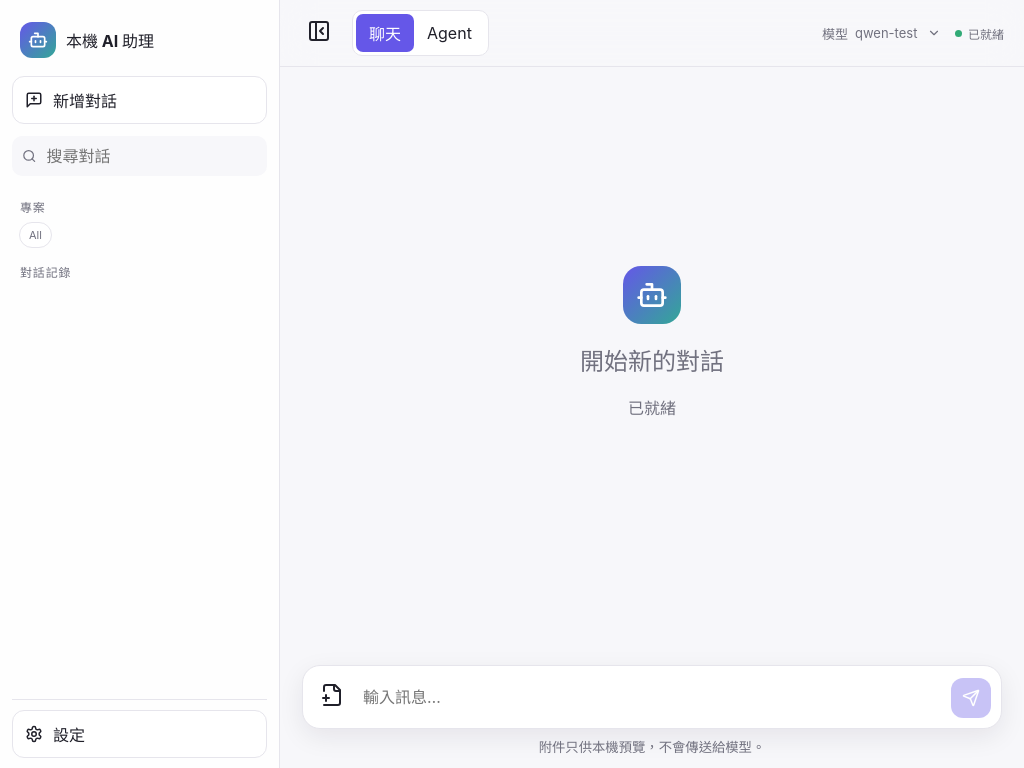
Test case: modern desktop › creates a conversation and streams a real Core request
Type "哈囉" into the text box with placeholder "輸入訊息…" at x=651, y=697, box top-left (359, 676), bottom-right (943, 718)
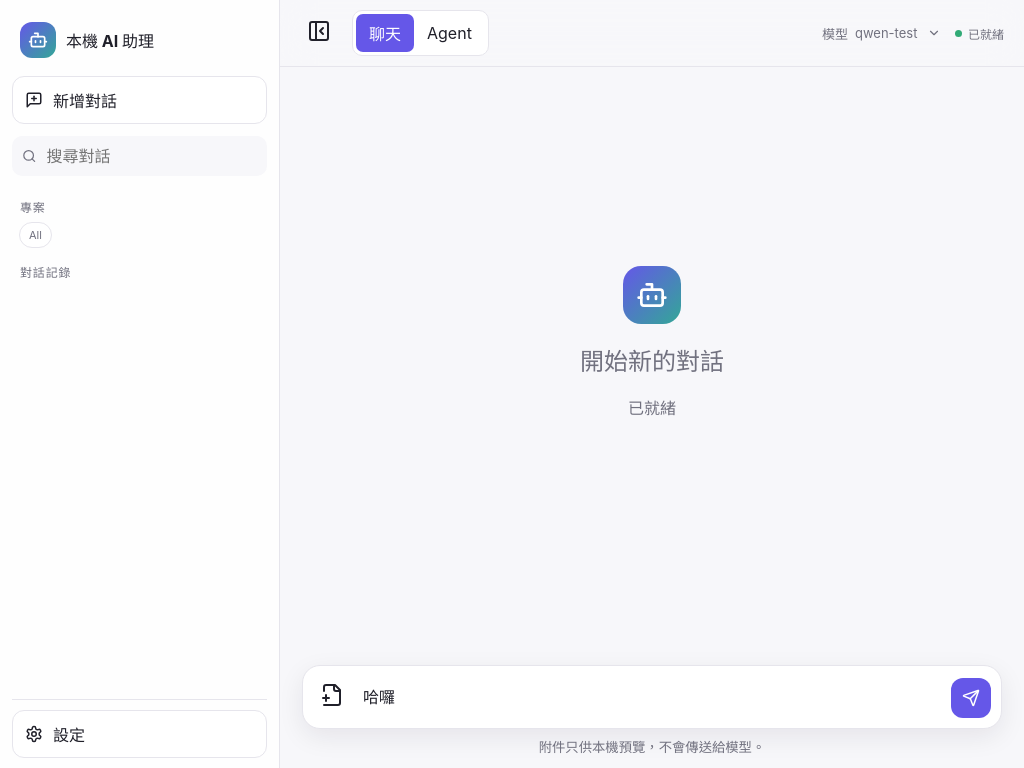
Click the button named "傳送" at x=971, y=698, box top-left (951, 678), bottom-right (991, 718)
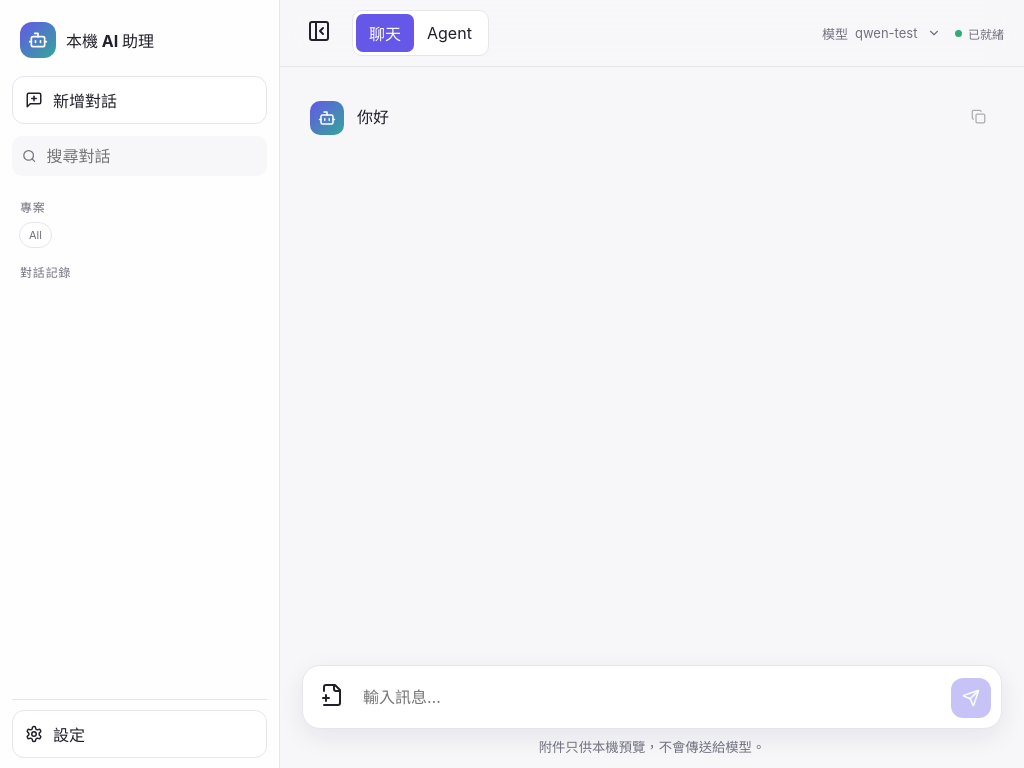
Result: the text "你好" is shown at top-left (357, 107), bottom-right (389, 127)
